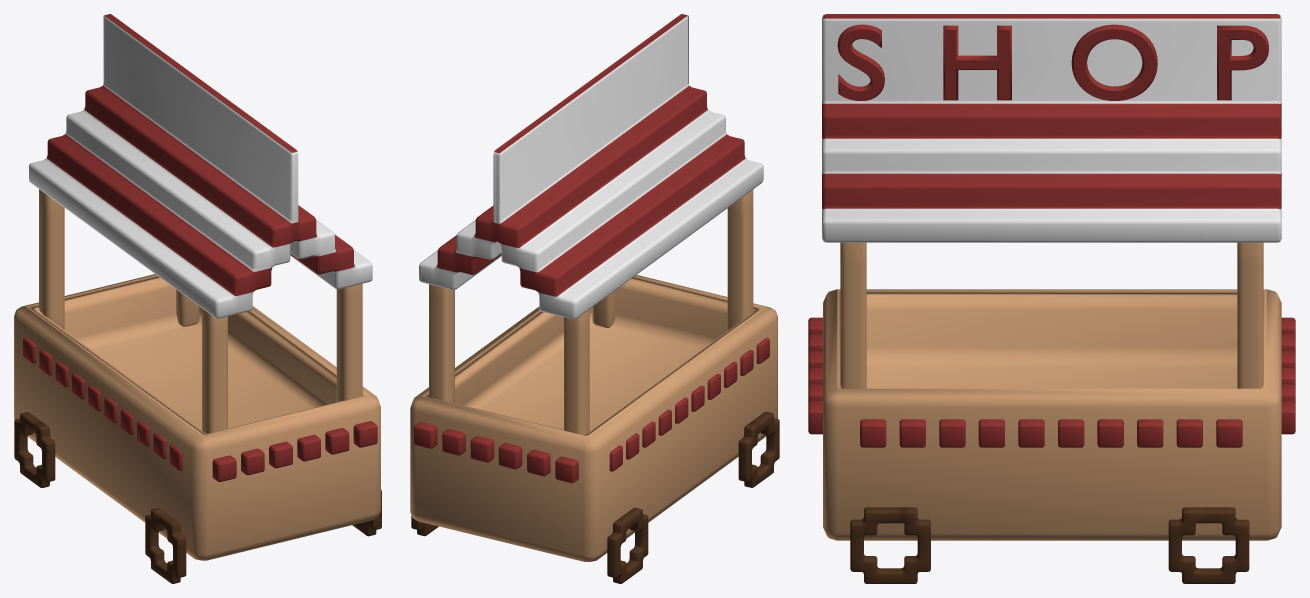
Rendered from SHOP.fbx.
3 views of the same model, side by side, from view 1: azimuth 30°, elevation 25°; view 2: azimuth 150°, elevation 25°; view 3: azimuth 270°, elevation 25° (orthographic). The views are drawn at different scales.
Visible parts, largest first — view 1: SHOP; view 2: SHOP; view 3: SHOP.
Part boxes in pixels (bbox=[...]): SHOP: bbox=[14, 14, 381, 583]; SHOP: bbox=[410, 14, 779, 583]; SHOP: bbox=[808, 14, 1295, 583].
Bounding box in the file's own units: 98.74 × 192 × 166.
